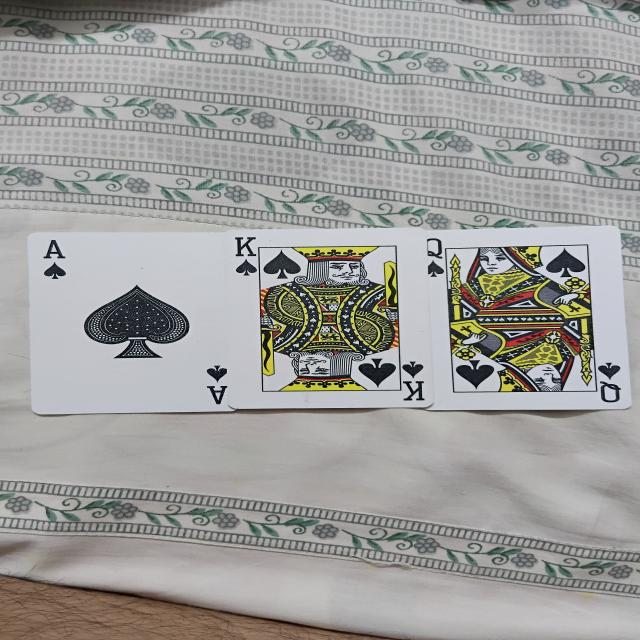AS: (25, 234, 237, 414)
KS: (239, 232, 426, 408)
QS: (424, 226, 638, 409)
